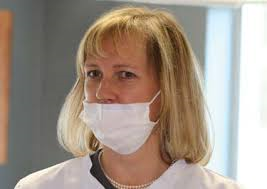mask_weared_incorrect: (76, 37, 175, 158)
